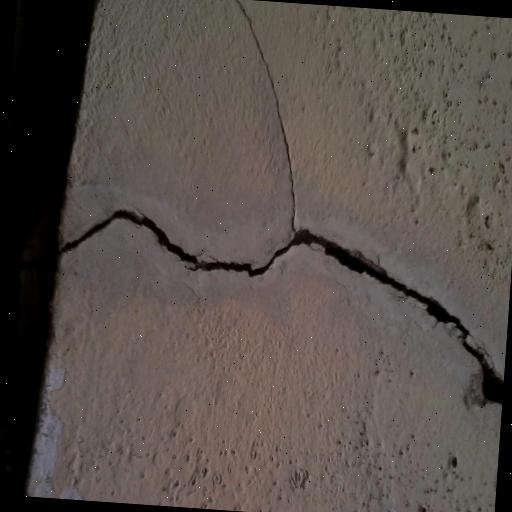spalling: (60, 199, 502, 410), (228, 0, 305, 206)
